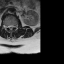CCS_normal: (10, 22, 11, 32)
LFS_normal: (14, 23, 15, 29)
LLS_normal: (11, 23, 14, 30)
RFS_stenosis: (6, 23, 7, 30)
RLS_normal: (7, 23, 10, 30)
